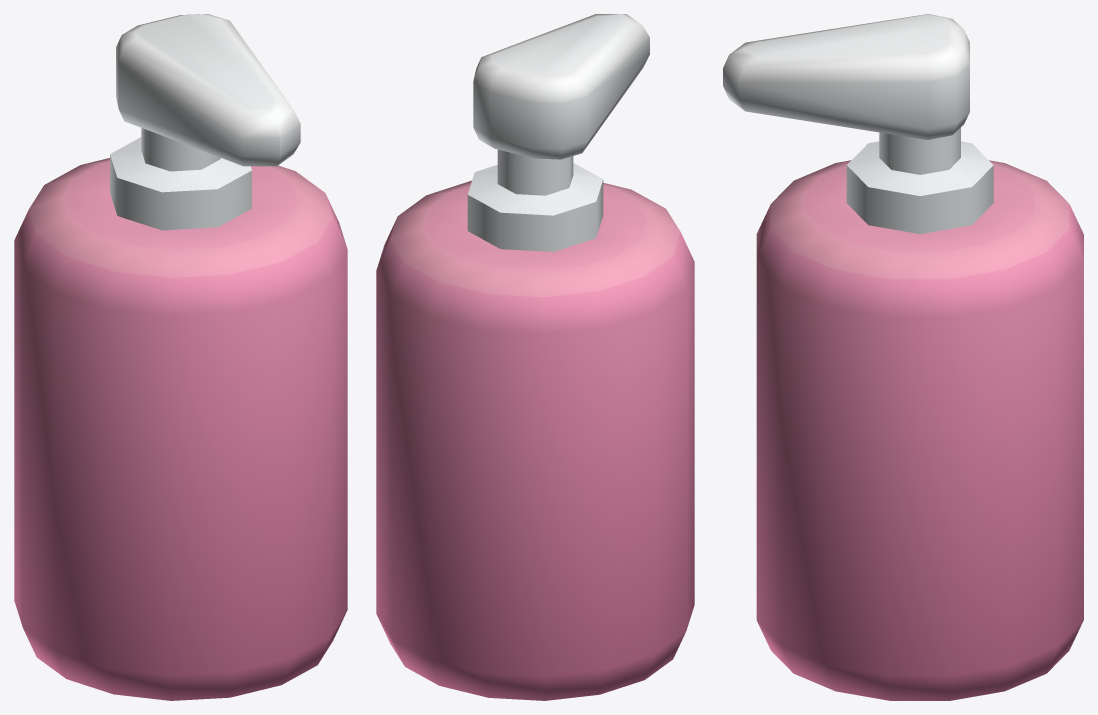
The model's file is container_bathroom_D_pink.fbx.
3 views of the same model, side by side, from view 1: azimuth 30°, elevation 25°; view 2: azimuth 150°, elevation 25°; view 3: azimuth 270°, elevation 25° (orthographic). The views are drawn at different scales.
Parts seen in each view (by area): view 1: container_bathroom_D_pink; view 2: container_bathroom_D_pink; view 3: container_bathroom_D_pink.
Boxes of the visible parts, bbox=[...] form: container_bathroom_D_pink: bbox=[14, 14, 347, 700]; container_bathroom_D_pink: bbox=[376, 14, 694, 700]; container_bathroom_D_pink: bbox=[723, 14, 1083, 700].
Bounding box in the file's own units: 0.312 × 0.65 × 0.3445.
